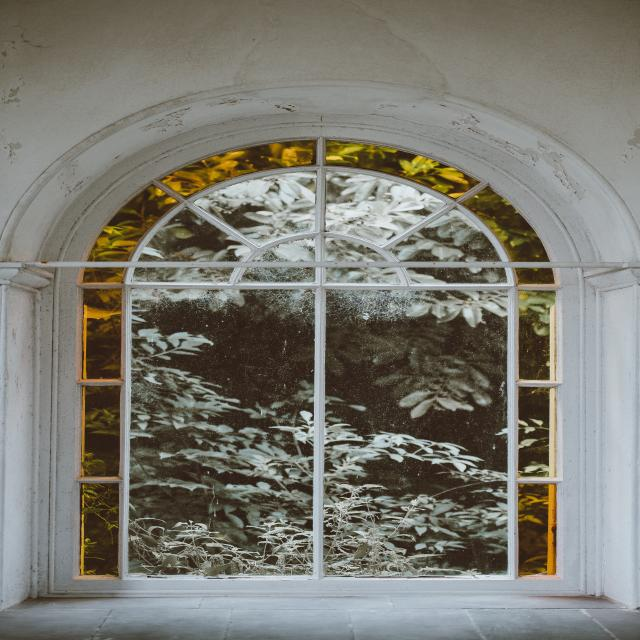Glass: (88, 139, 563, 582)
